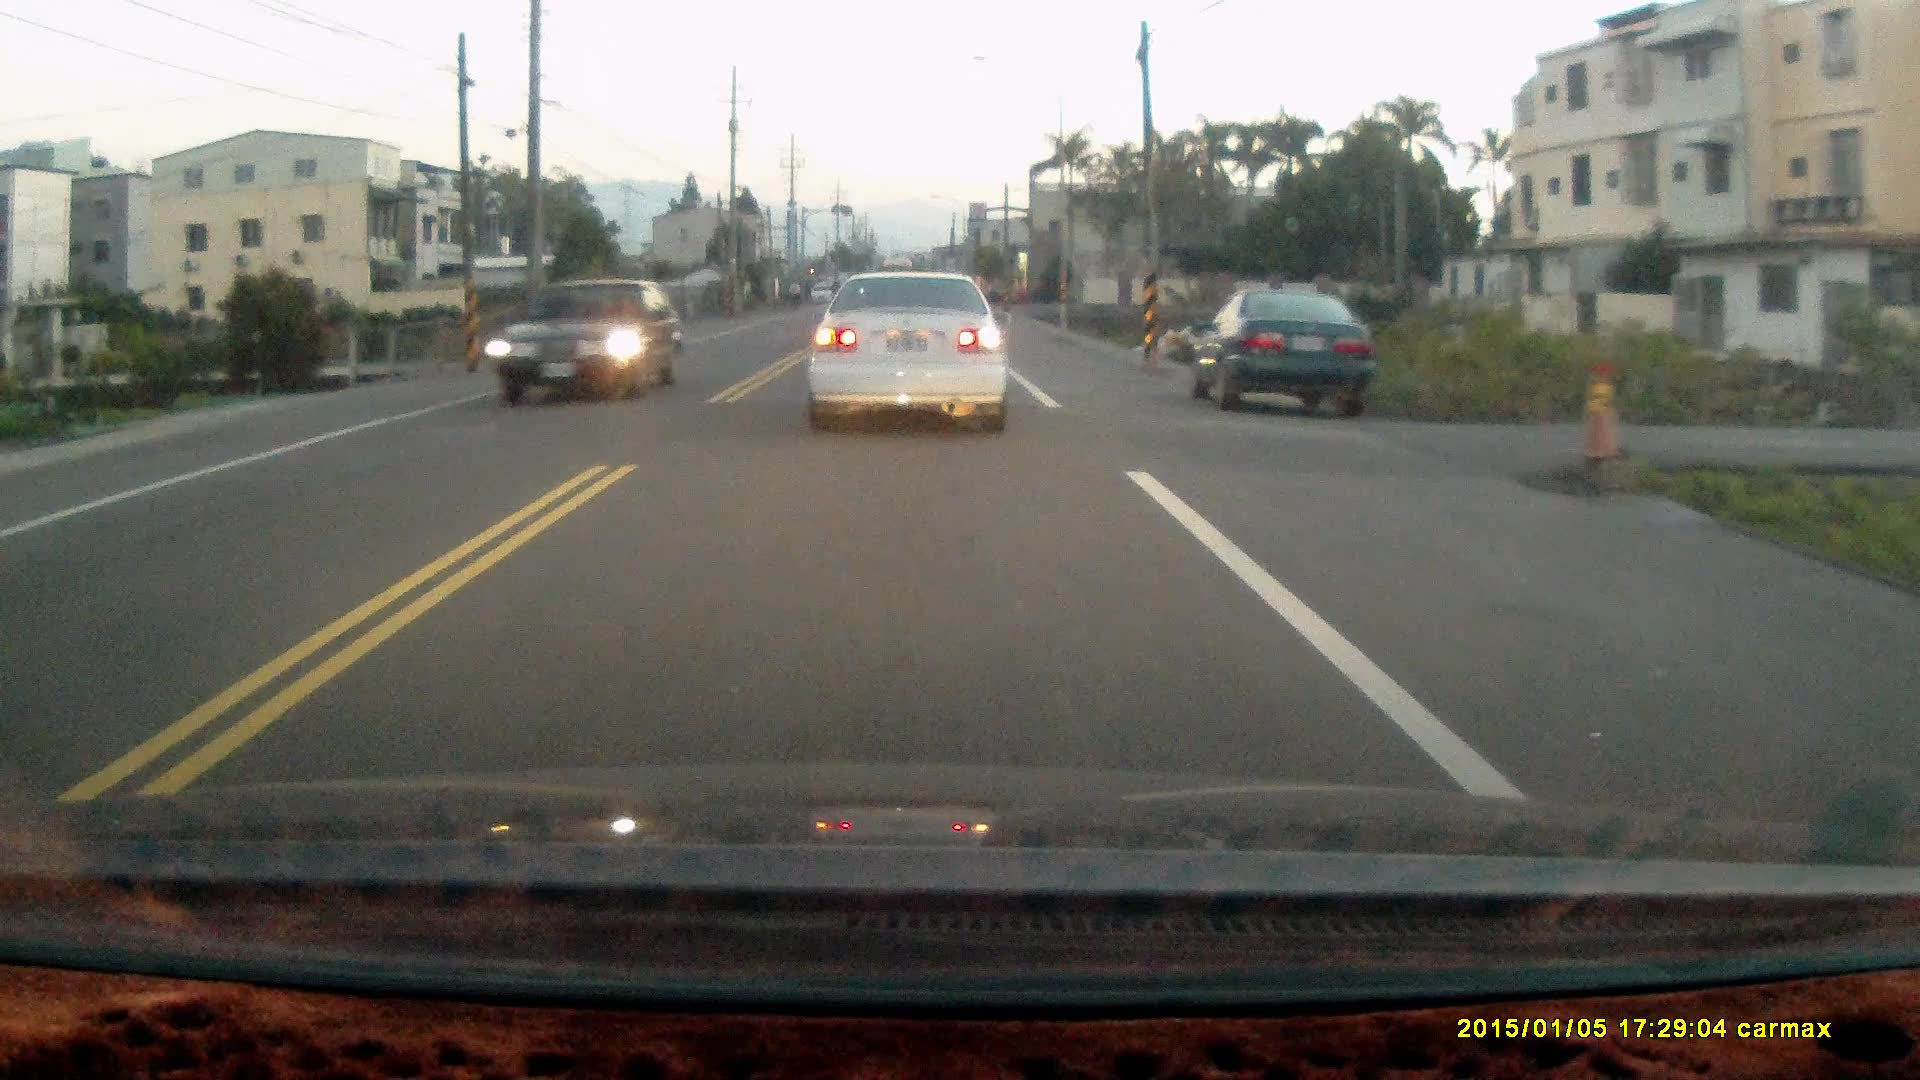vehicle: (803, 268, 1014, 439), (1192, 287, 1378, 419), (492, 277, 680, 402)
